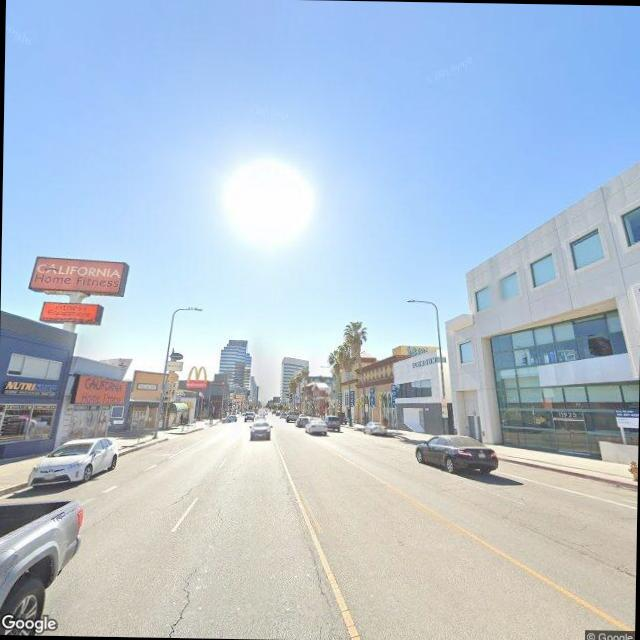crack: (291, 498, 336, 616), (154, 556, 202, 637), (165, 481, 198, 507), (209, 501, 225, 537)
